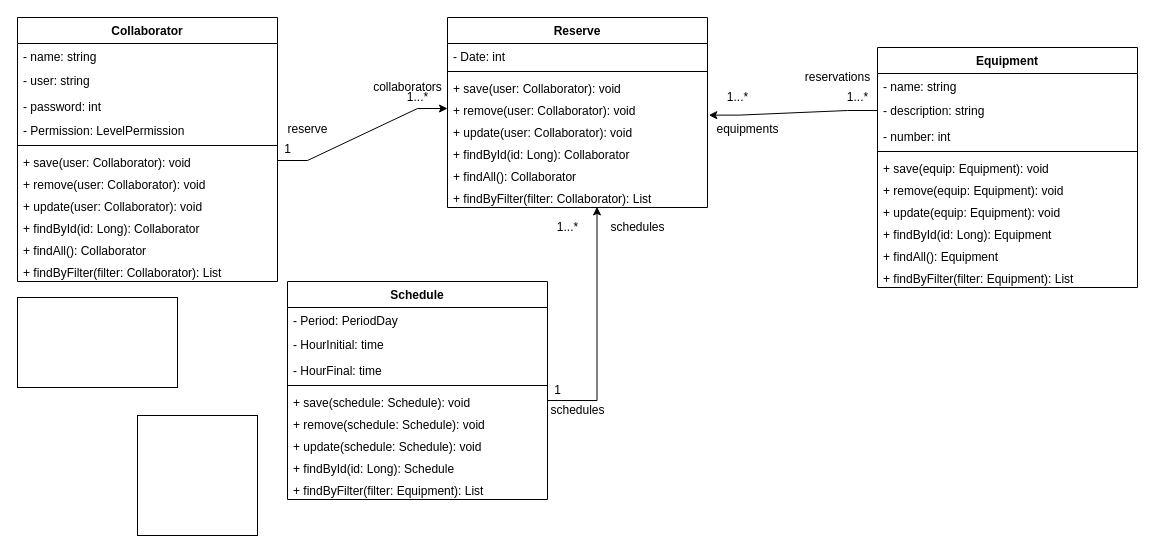
Some shapes in this 1155 by 553 pixel diagram are drawn without their labels. Here are the shapes that lost their labels. From the top down, the centre of each, then its label:
At point (97, 342): "<<Enum>> LevelPermission - ADMINISTRATOR - DEFAULT".
At point (197, 475): "<<Enum>> PeriodDay - MONRNING - EVERNING - NIGHT".
